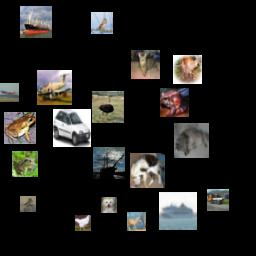airplane: (37, 70, 72, 105), (0, 83, 19, 102)
automobile: (53, 109, 91, 147)
bird: (92, 91, 124, 123), (91, 12, 113, 34), (20, 196, 36, 212), (75, 215, 91, 231)
cat: (174, 123, 209, 158), (130, 153, 165, 188), (131, 50, 160, 79)
deer: (173, 55, 202, 84), (127, 212, 146, 231)
dog: (101, 197, 117, 213)
frog: (4, 112, 36, 144), (160, 88, 189, 117), (12, 151, 38, 177)
ship: (159, 192, 197, 230), (20, 6, 52, 38), (93, 147, 125, 179)
truck: (207, 189, 229, 211)
